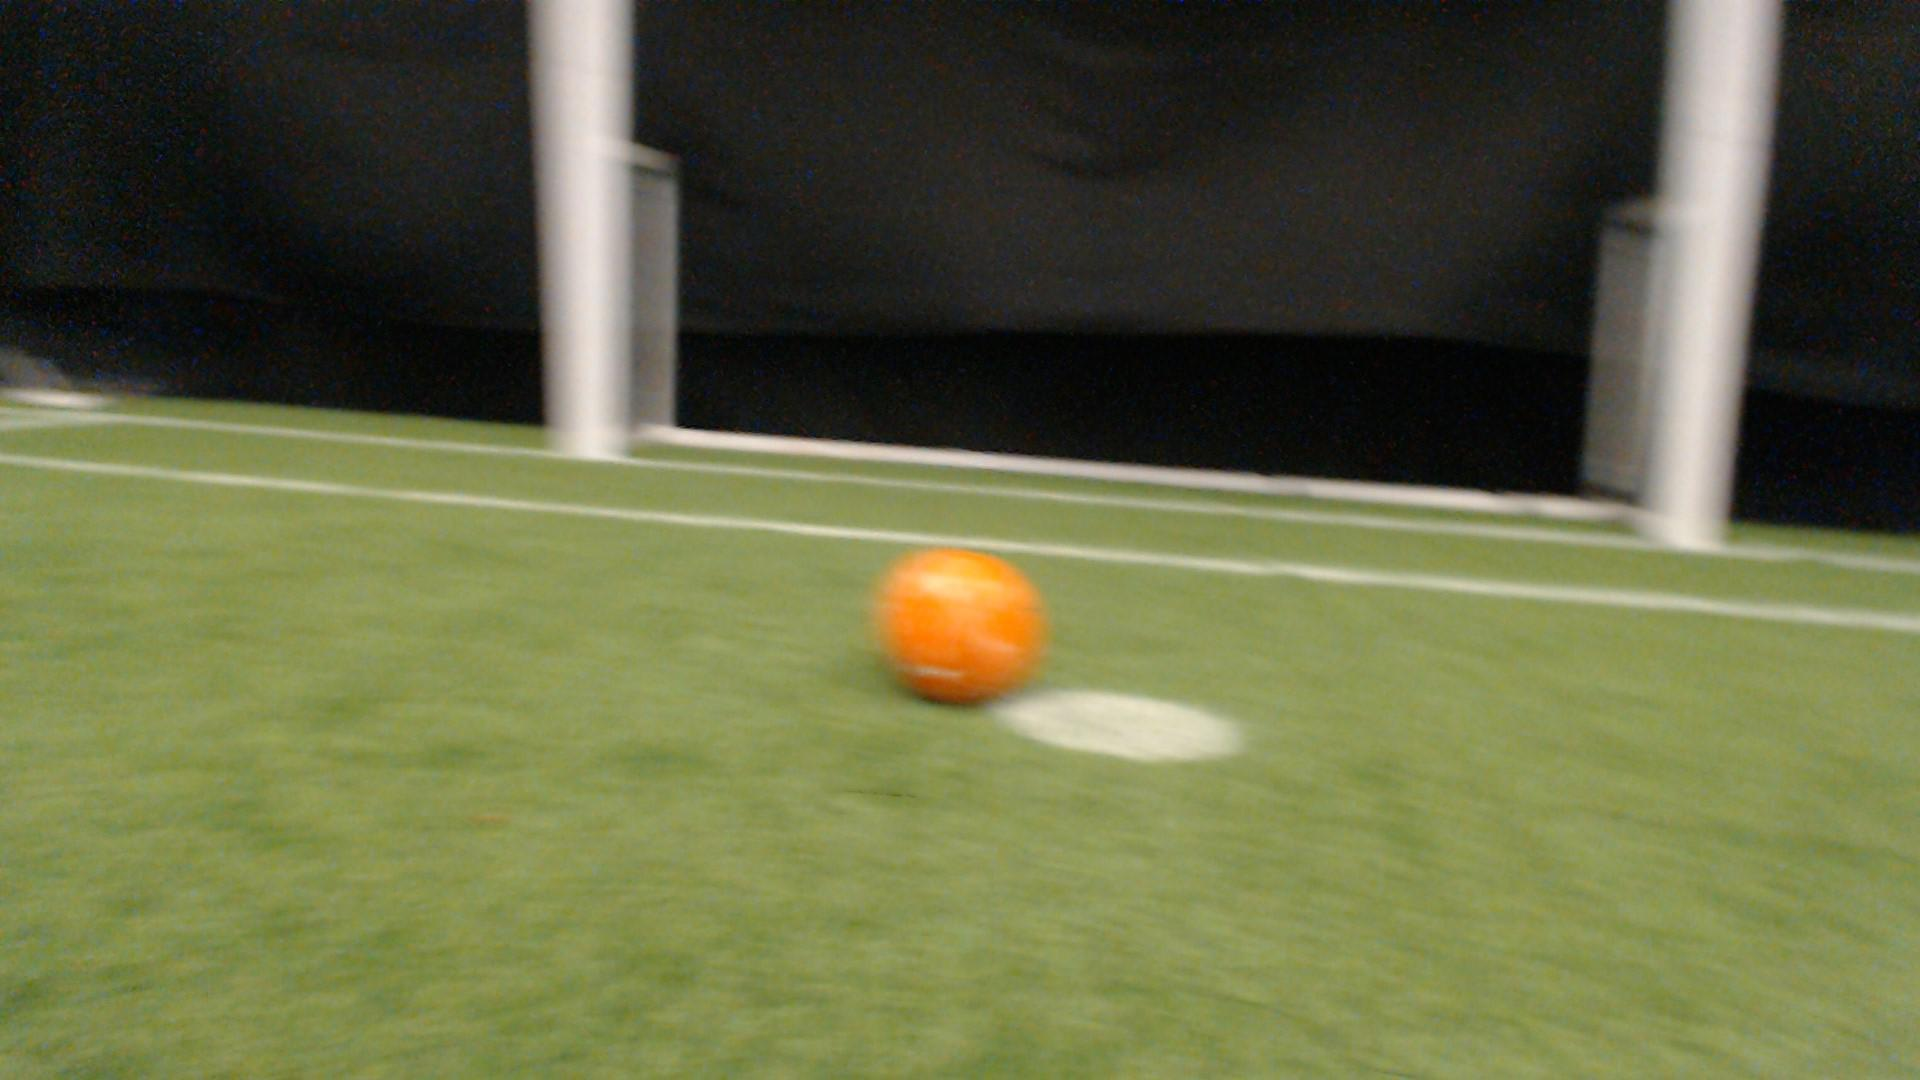bola: (848, 529, 1069, 721)
